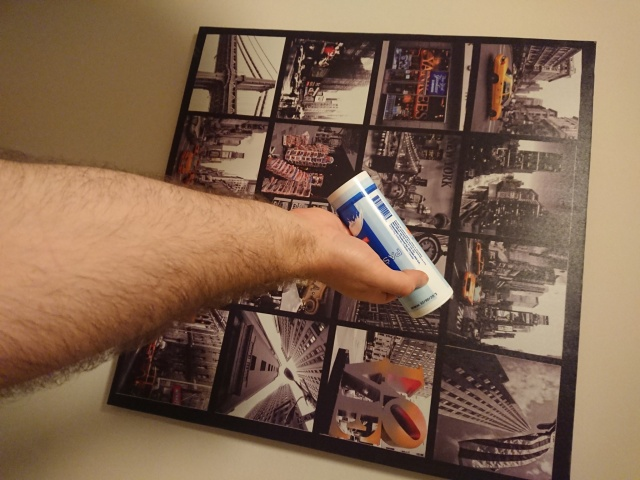Solana Pag Fine Sea Salt 250g: (324, 167, 456, 321)
